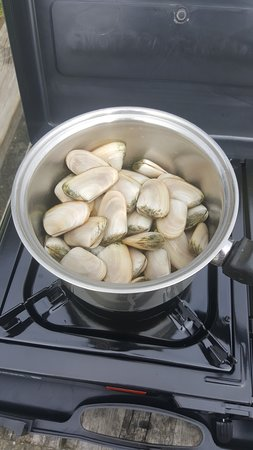tuatua: (61, 163, 118, 203), (39, 197, 90, 236), (57, 245, 109, 280), (63, 214, 110, 251), (134, 178, 174, 221), (98, 239, 134, 286), (158, 172, 206, 207), (99, 188, 129, 243), (156, 196, 189, 240), (94, 140, 127, 173), (63, 146, 110, 169), (124, 229, 163, 252), (130, 157, 169, 178), (188, 220, 210, 254)
